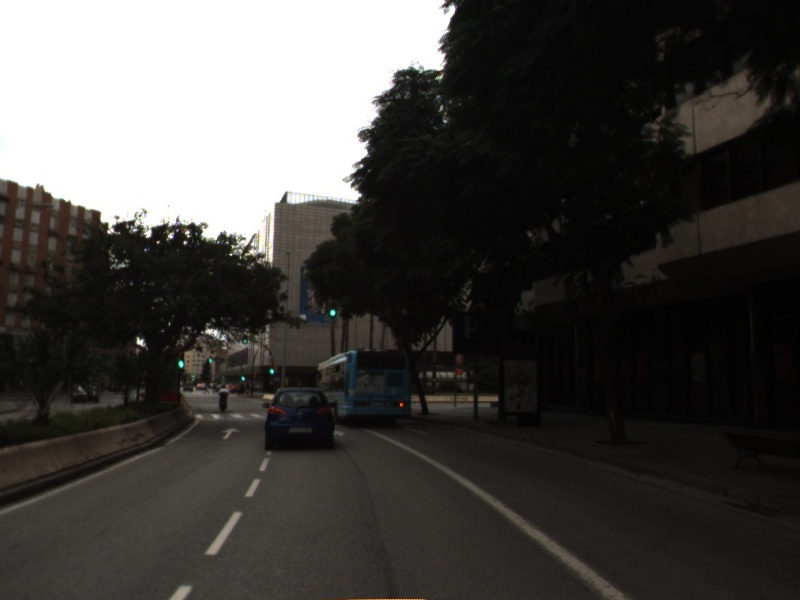RIGHT: (399, 422, 433, 437)
STRAIGHT: (219, 425, 242, 441)
